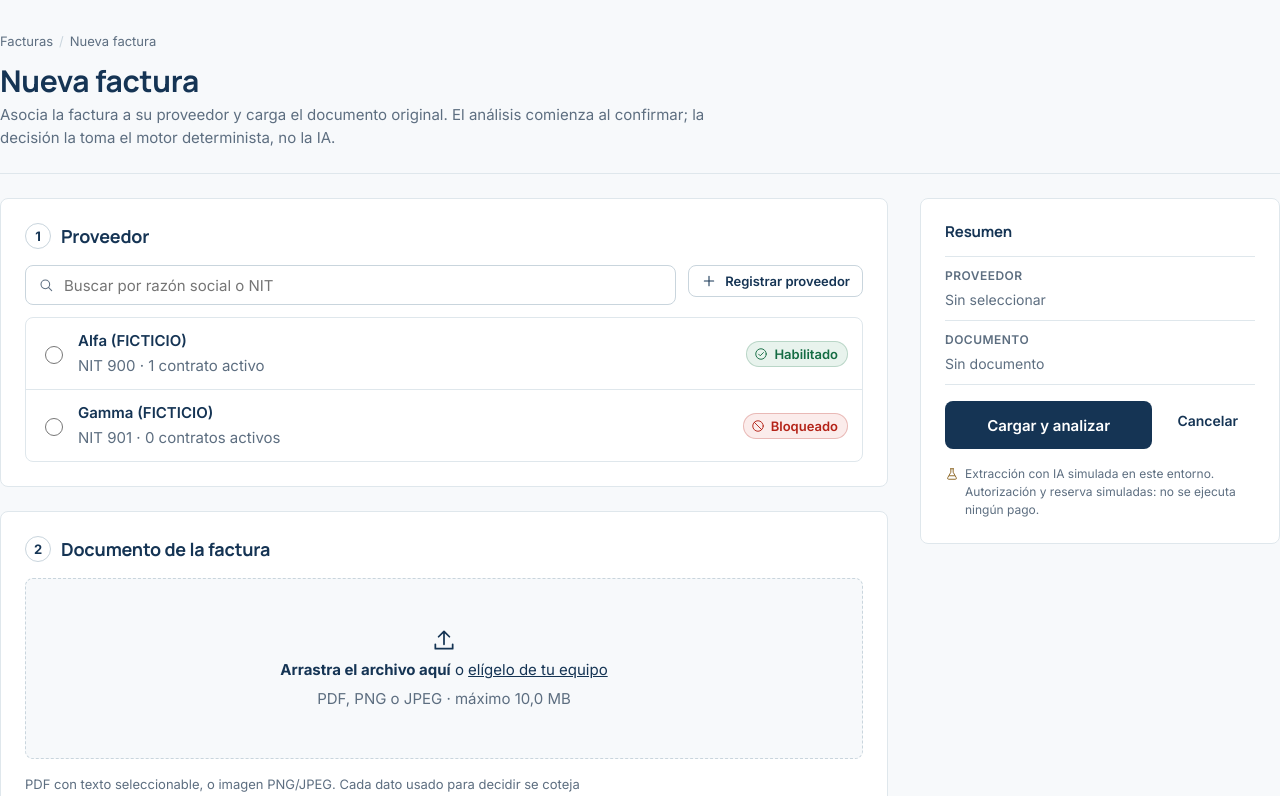
Test case: Nueva factura › el proveedor es obligatorio y no se envía nada sin él
The image size is (1280, 796).
Expected: the radio button labelled "Alfa (FICTICIO) NIT 900 · 1 contrato activo Habilitado" is shown, [45,346,63,364]
Click the button "Cargar y analizar" at (1049, 425), box [945,401,1152,449]
(page scrolled)
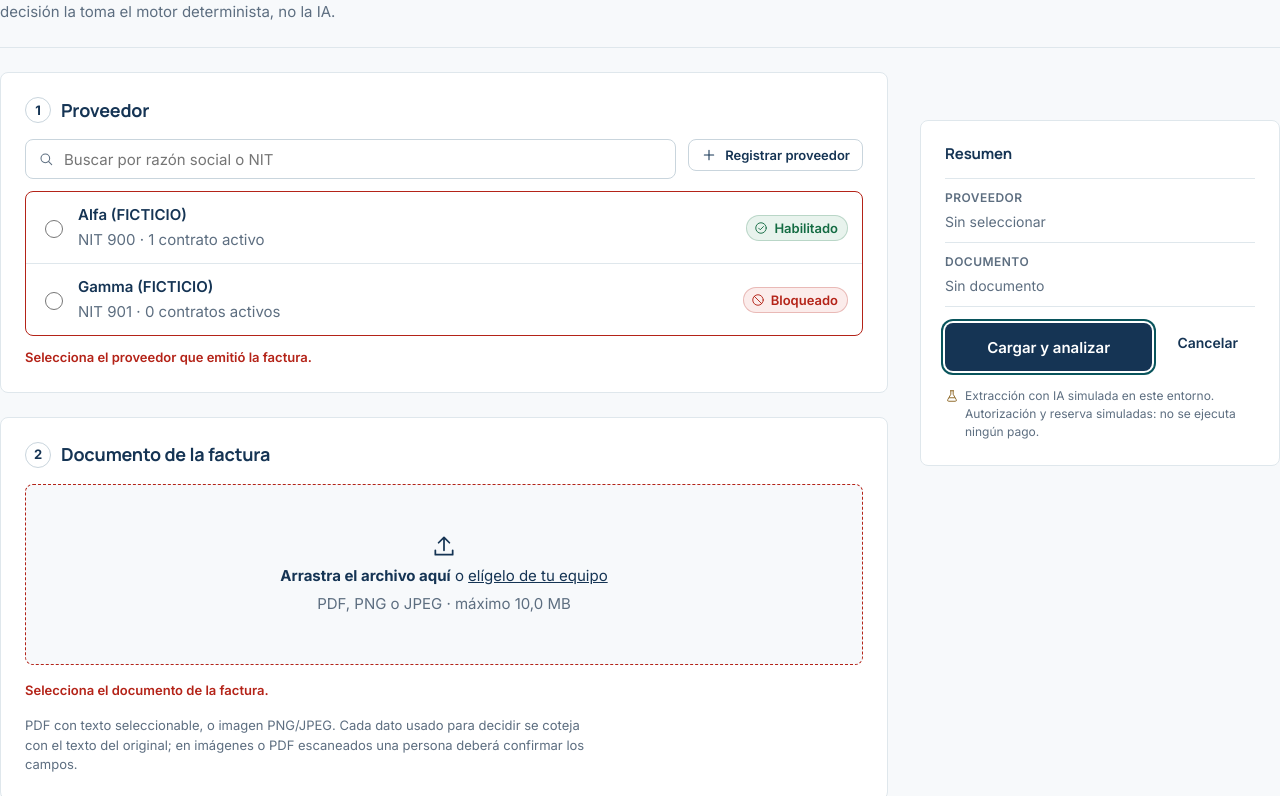
Result: the text "Selecciona el proveedor que emitió la factura." is shown at [25,349,312,365]
Result: the text "Selecciona el documento de la factura." is shown at [25,682,269,698]
